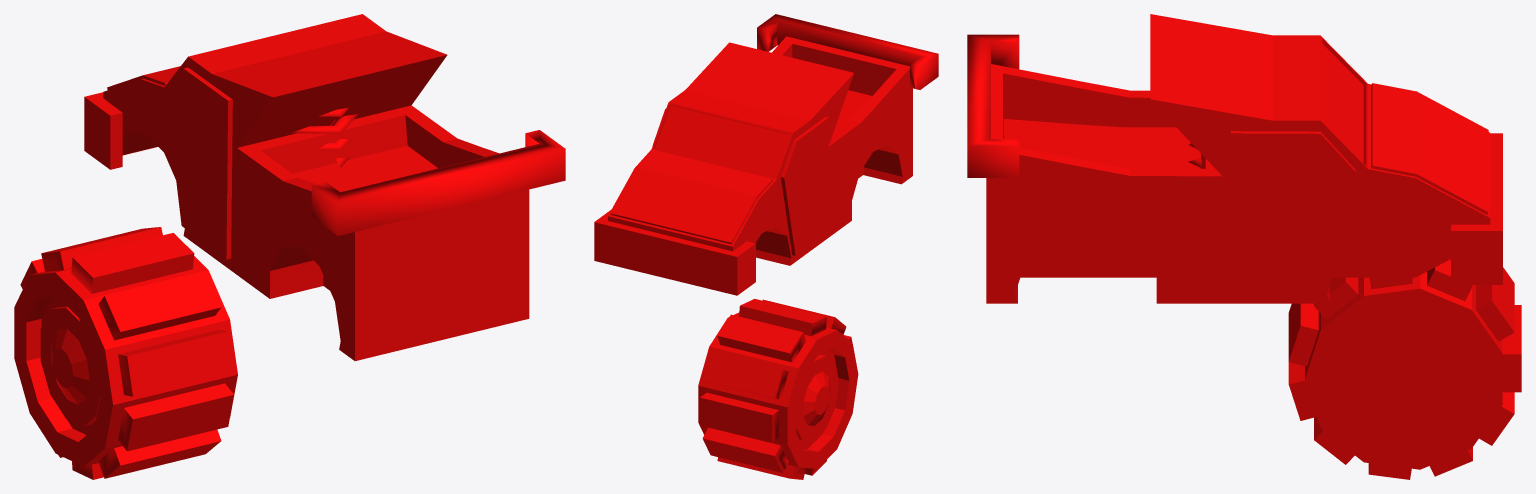
File: new_car.fbx
3 views of the same model, side by side, from view 1: azimuth 30°, elevation 25°; view 2: azimuth 150°, elevation 25°; view 3: azimuth 270°, elevation 25° (orthographic). The views are drawn at different scales.
Visible parts, largest first — view 1: main_car, roue_001, back_bump, porte_droite, bump, suspension_001; view 2: main_car, roue_001, hood, bump, porte_droite, back_bump; view 3: main_car, roue_001, porte_gauche, hood, back_bump, bump.
Boxes of the visible parts, left/top/right/bottom form: main_car: left=103, top=14, right=529, bottom=360; roue_001: left=14, top=227, right=237, bottom=479; back_bump: left=311, top=130, right=565, bottom=235; porte_droite: left=166, top=67, right=232, bottom=259; bump: left=84, top=92, right=122, bottom=169; suspension_001: left=291, top=107, right=357, bottom=167; main_car: left=608, top=36, right=912, bottom=265; roue_001: left=698, top=299, right=858, bottom=479; hood: left=610, top=149, right=773, bottom=244; bump: left=594, top=209, right=755, bottom=295; porte_droite: left=781, top=116, right=828, bottom=255; back_bump: left=757, top=14, right=938, bottom=89; main_car: left=986, top=14, right=1490, bottom=303; roue_001: left=1288, top=259, right=1521, bottom=479; porte_gauche: left=1231, top=131, right=1355, bottom=293; hood: left=1371, top=83, right=1488, bottom=214; back_bump: left=967, top=34, right=1019, bottom=177; bump: left=1451, top=133, right=1502, bottom=284.
Bounding box in the file's own units: 326 × 493 × 549.
